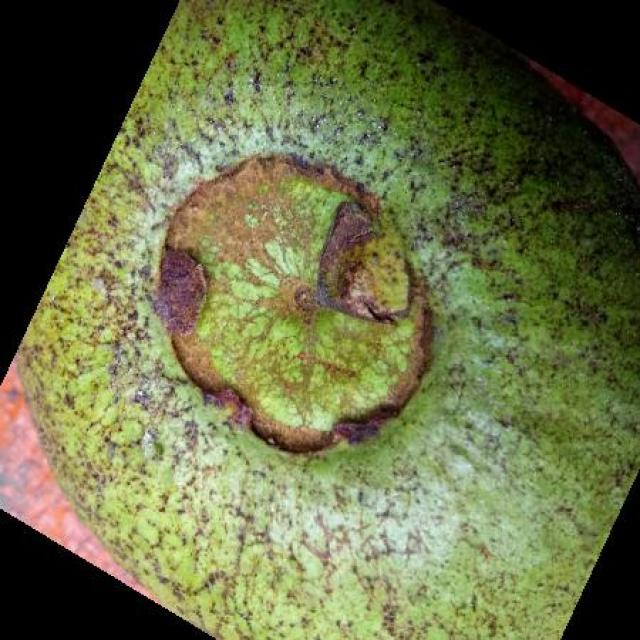Scab: (20, 0, 640, 640)
